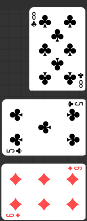5C: (5, 147, 23, 155)
8C: (30, 11, 37, 29)
